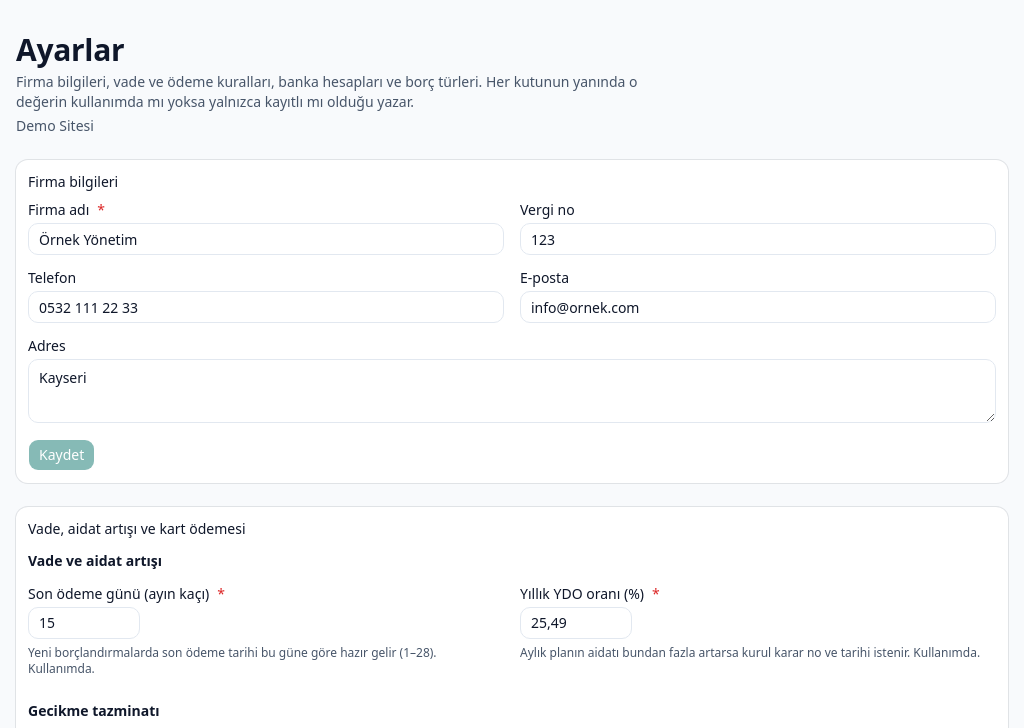
Scenario: Ayarlar › shows the database refusal in Turkish
Replace the text in the field labelled "Yıllık YDO oranı (%) *" with "30" at {"x": 576, "y": 622}, box [520,606,632,638]
(page scrolled)
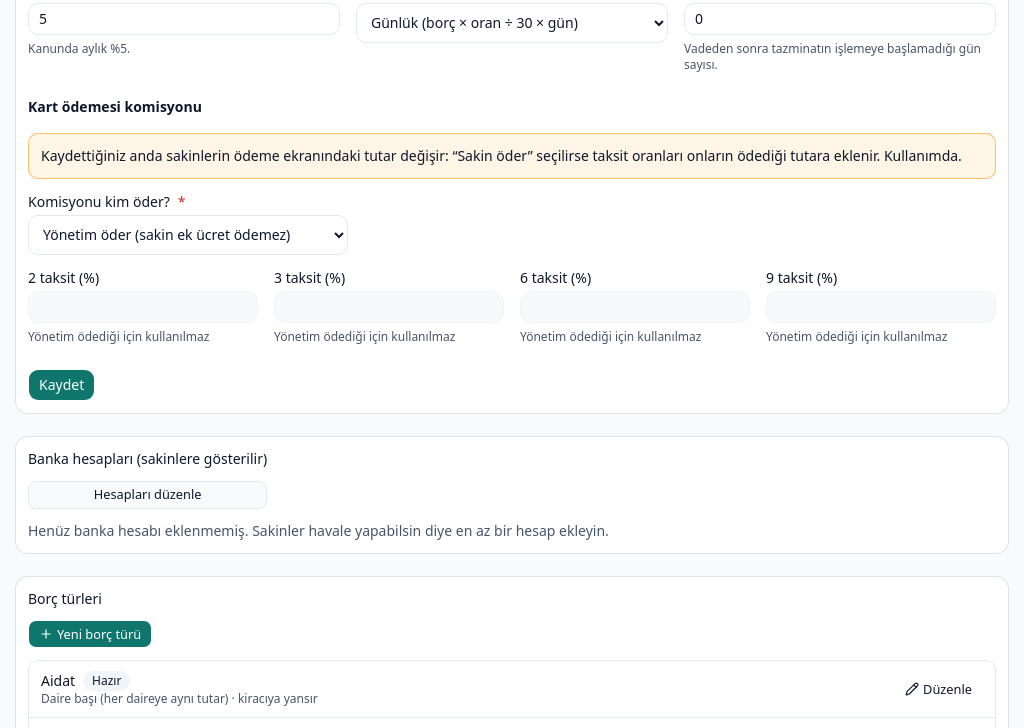
Click the button "Kaydet" at {"x": 62, "y": 384}, box [28,368,95,400]
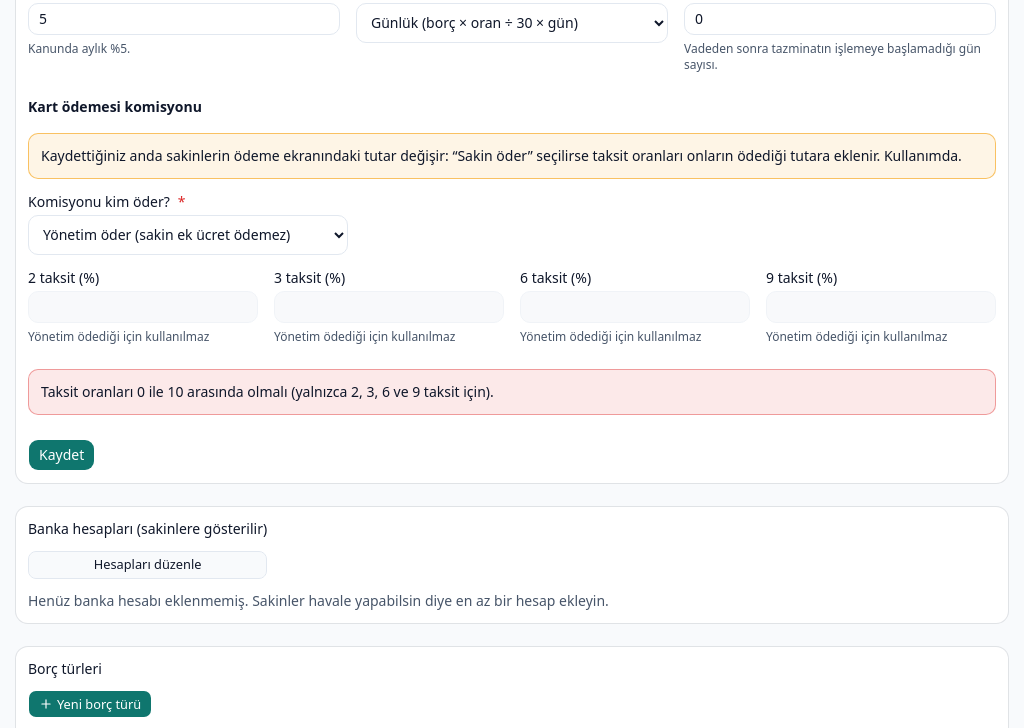
Expected: the text "Taksit oranları 0 ile 10 arasında olmalı (yalnızca 2, 3, 6 ve 9 taksit için)." is shown, [28,368,996,414]
